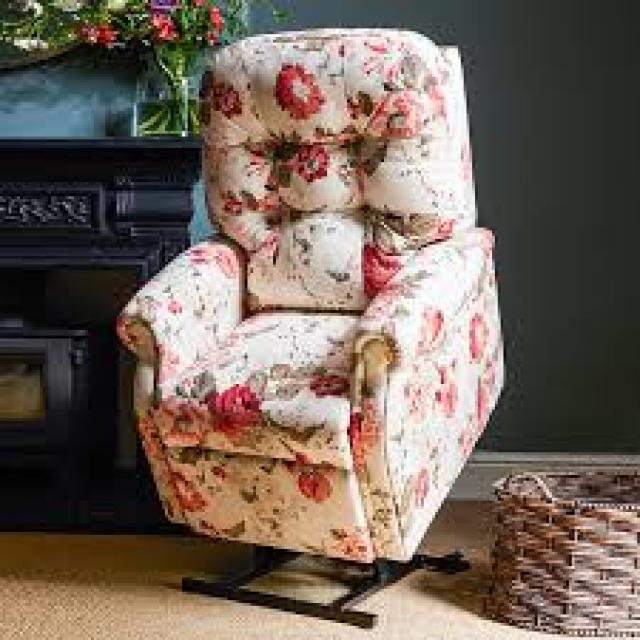chair: (112, 25, 509, 568)
